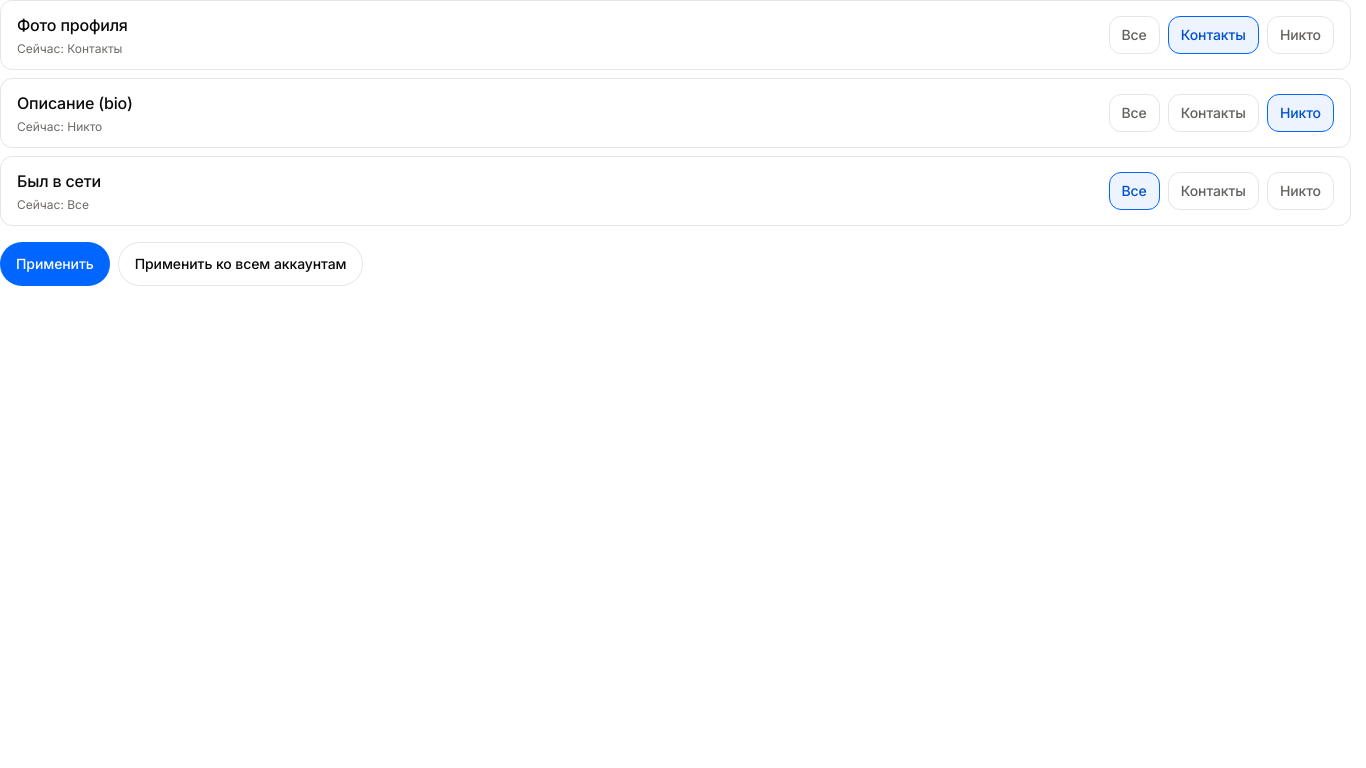
the fleet confirm warns about a restrictive level and about losing exceptions
Expected: the text "Фото профиля" is shown, [17,15,128,35]
Click the button "Применить ко всем аккаунтам". click: (240, 264)
box: [118,242,363,286]
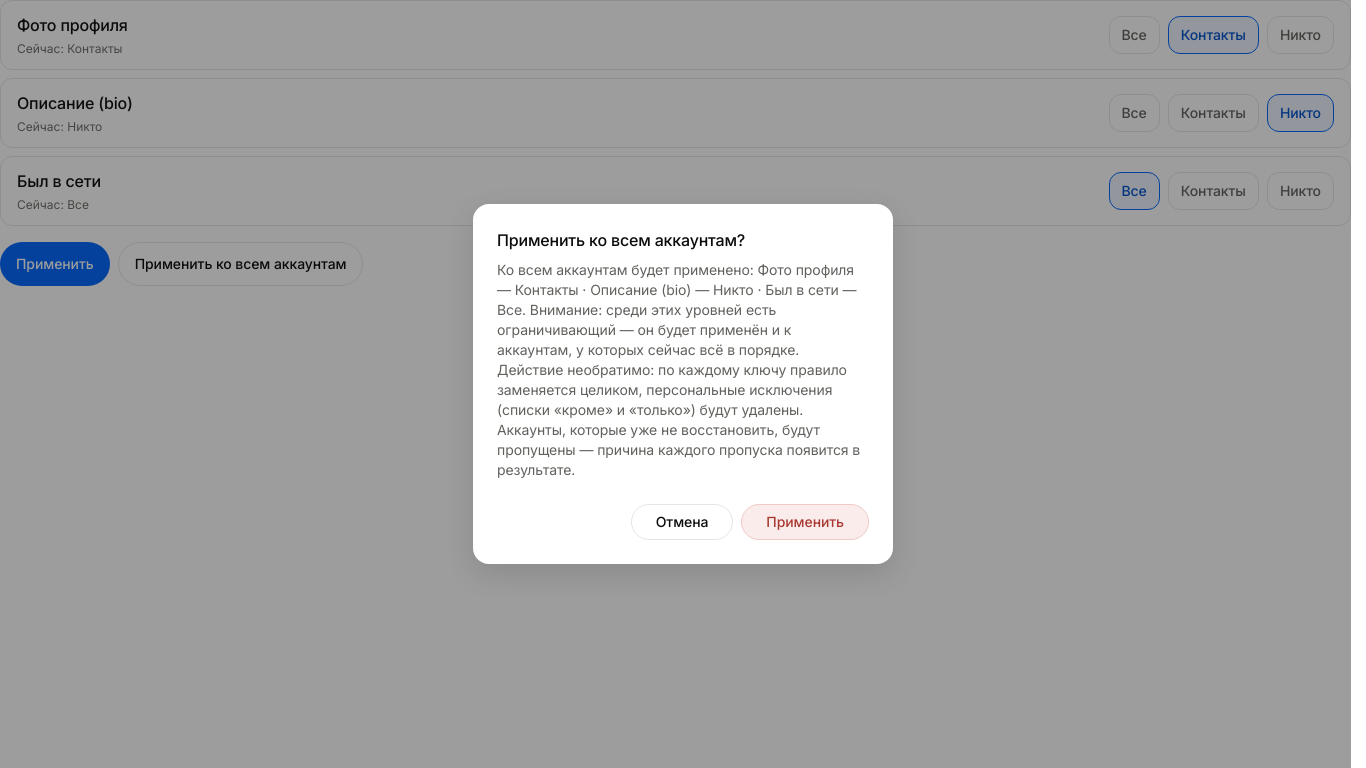
Result: the text "персональные исключения" is shown at [497,261,860,478]
